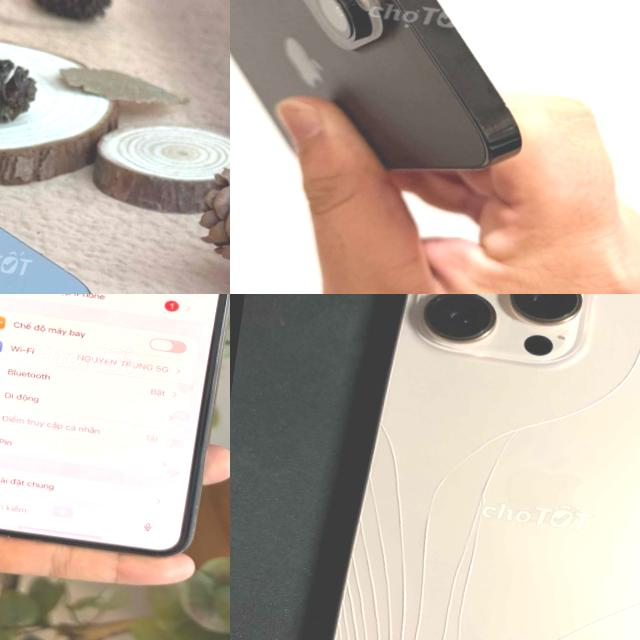gen_11: (0, 294, 230, 572)
gen_14: (230, 0, 566, 219)
gen_15: (0, 39, 131, 294)
gen_16: (310, 294, 640, 640)
